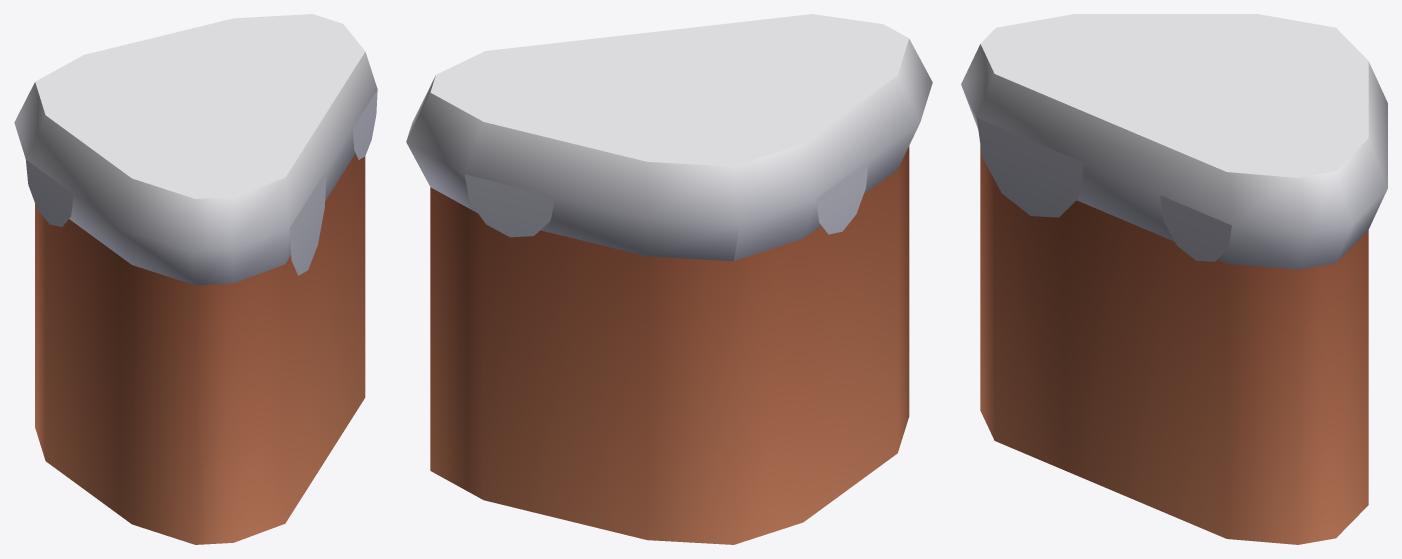
The model's file is block-snow-corner-overhang.glb.
The picture shows the model from 3 angles, left to right: view 1: azimuth 30°, elevation 25°; view 2: azimuth 150°, elevation 25°; view 3: azimuth 270°, elevation 25°; orthographic projection. The views are drawn at different scales.
Parts seen in each view (by area): view 1: block-snow-corner-overhang; view 2: block-snow-corner-overhang; view 3: block-snow-corner-overhang.
Part boxes in pixels (x1,y1,x2,y2): block-snow-corner-overhang: (14,14,377,544); block-snow-corner-overhang: (406,14,932,544); block-snow-corner-overhang: (961,14,1387,544).
Size of the model in its own units: 1.05 by 1 by 1.05.
Materials: 1 (1 with a texture image).
